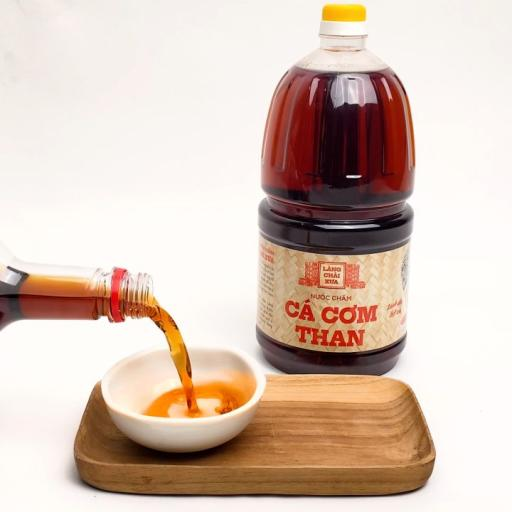bottle: (256, 6, 414, 374)
